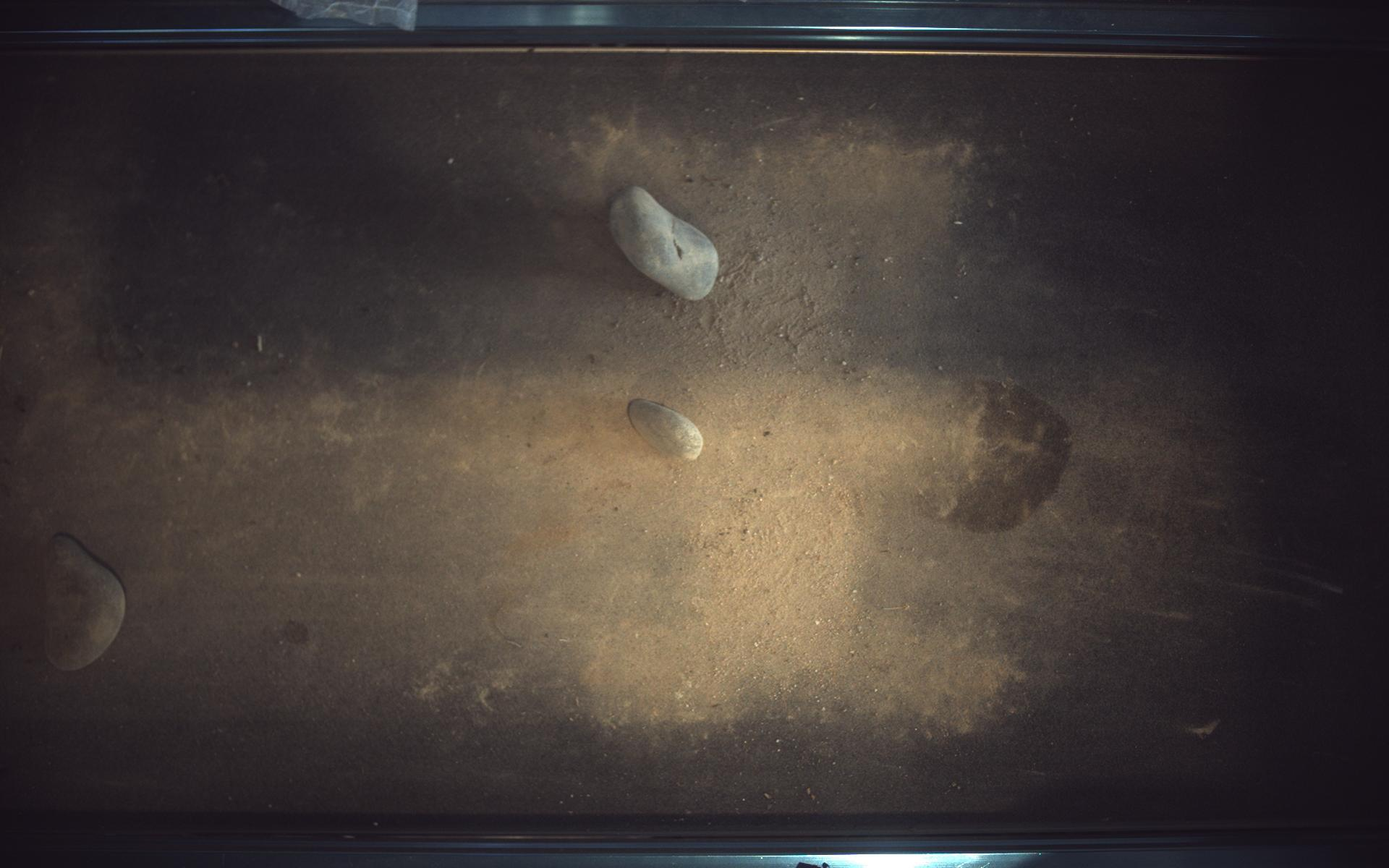stone: (611, 185, 720, 299), (43, 534, 124, 672), (628, 399, 705, 460)
